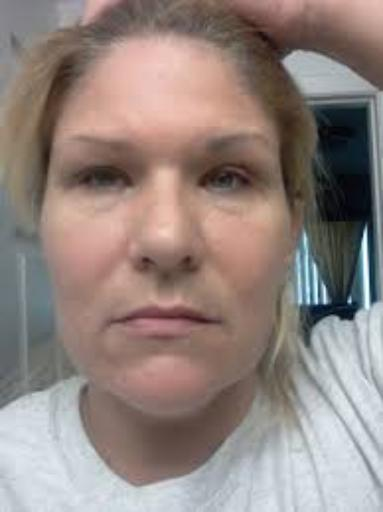left_eye: (199, 171, 256, 199)
left_lip_corner: (204, 308, 235, 336)
right_eye: (72, 165, 138, 197)
right_lip_corner: (105, 309, 130, 335)
